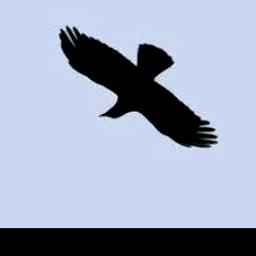Crow: (58, 26, 218, 148)
